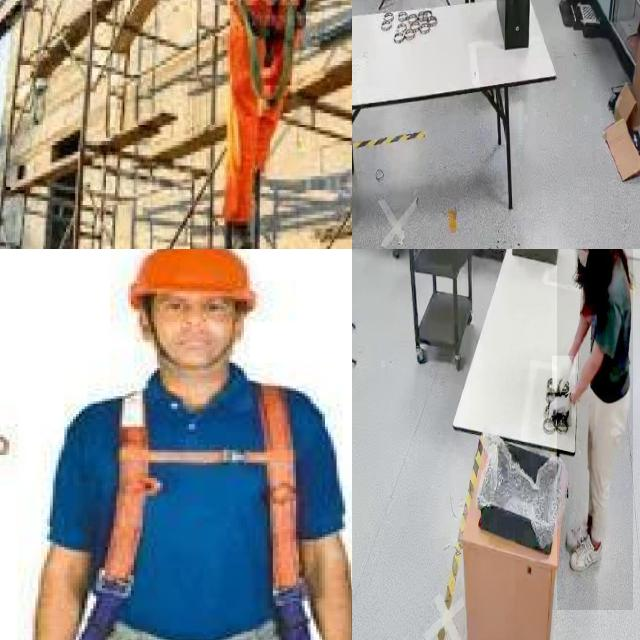Harness: (80, 382, 314, 640), (229, 0, 305, 107)
face_mask: (575, 249, 592, 274)
hand_glove: (552, 356, 576, 393), (548, 392, 572, 428)
person: (556, 249, 633, 610)
shoes: (571, 534, 602, 576), (565, 517, 591, 552)
